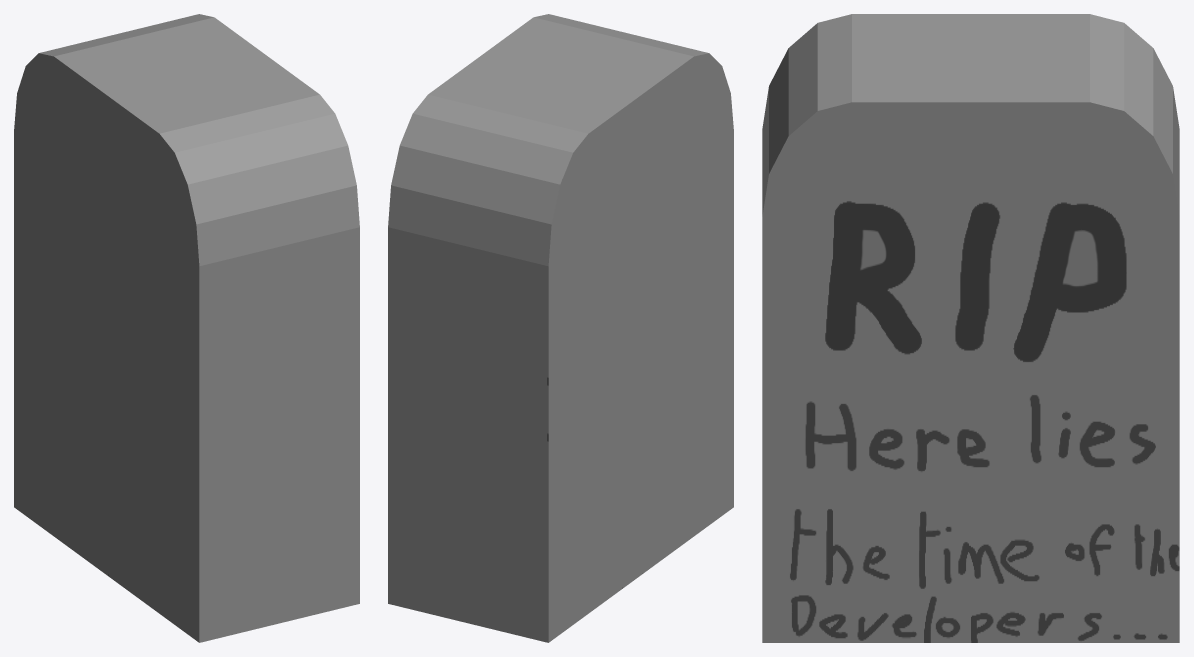
Rendered from tombstone.glb.
3 views of the same model, side by side, from view 1: azimuth 30°, elevation 25°; view 2: azimuth 150°, elevation 25°; view 3: azimuth 270°, elevation 25° (orthographic). The views are drawn at different scales.
Visible parts, largest first — view 1: Cube; view 2: Cube; view 3: Cube.
Boxes of the visible parts, left/top/right/bottom form: Cube: left=14, top=14, right=359, bottom=642; Cube: left=388, top=14, right=733, bottom=642; Cube: left=762, top=14, right=1179, bottom=642.
Bounding box in the file's own units: 0.7 × 2 × 1.4.
Materials: 1 (1 with a texture image).
